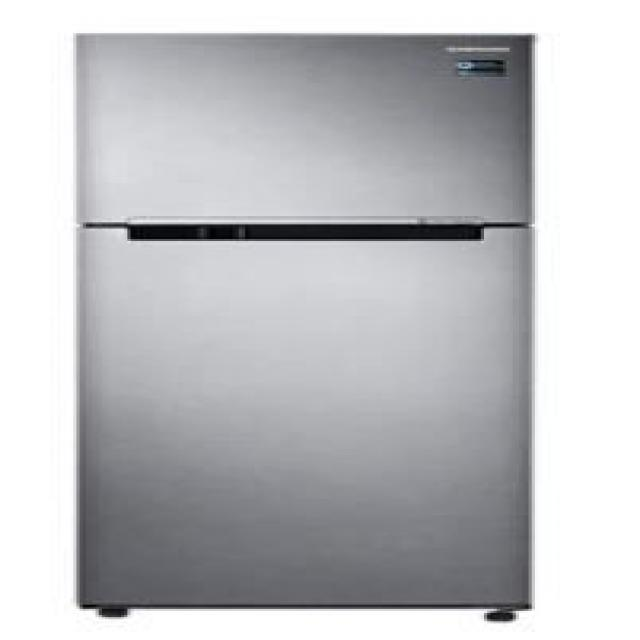refrigerator: (73, 33, 534, 613)
